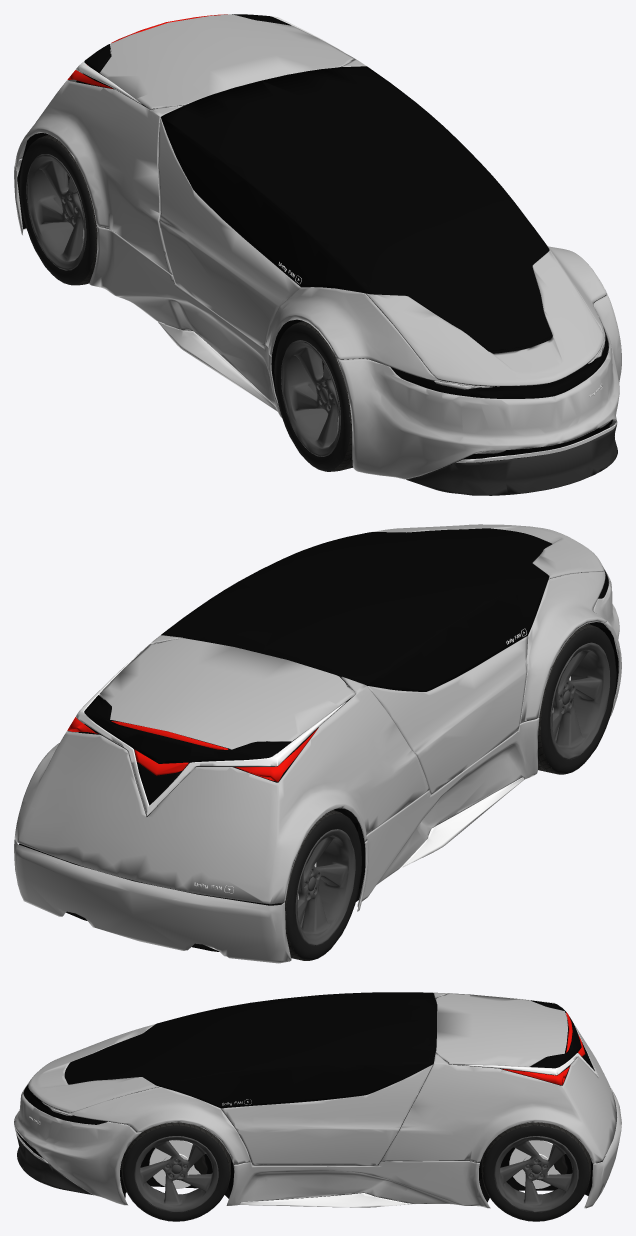
File: c038_lite.glb
3 views of the same model, one above another, from view 1: azimuth 30°, elevation 25°; view 2: azimuth 150°, elevation 25°; view 3: azimuth 270°, elevation 25° (orthographic). The views are drawn at different scales.
Parts seen in each view (by area): view 1: Cube.032_plasticShiny_0, Cube.038_body_color_supra.001_0, Cube.041_body_color_supra.001_0, Cube.042_body_color_supra.001_0, Cube.040_body_color_supra.001_0, Cube.035_body_color_supra.001_0, Cube.033_body_color_supra.001_0, Cube.044_body_color_supra.001_0, Cube.034_plasticMatte_0, Plane.008_rims.001_0, Plane.009_rims.001_0, Cube.031_headlightCovers_0 (+6 smaller); view 2: Cube.032_plasticShiny_0, Cube.042_body_color_supra.001_0, Cube.041_body_color_supra.001_0, Cube.043_body_color_supra.001_0, Cube.040_body_color_supra.001_0, Cube.044_body_color_supra.001_0, Cube.033_body_color_supra.001_0, Plane.009_rims.001_0, Plane.008_rims.001_0, Cube.020_chrome_0, Mesh5.002_rubber___tires.001_0, Mesh5.003_rubber___tires.001_0 (+6 smaller); view 3: Cube.032_plasticShiny_0, Cube.042_body_color_supra.001_0, Cube.040_body_color_supra.001_0, Cube.044_body_color_supra.001_0, Cube.041_body_color_supra.001_0, Cube.038_body_color_supra.001_0, Cube.033_body_color_supra.001_0, Cube.035_body_color_supra.001_0, Plane.001_rims.001_0, Plane.007_rims.001_0, Mesh5.001_rubber___tires.001_0, Mesh5.004_rubber___tires.001_0 (+12 smaller).
Boxes of the visible parts, left/top/right/bottom form: Cube.032_plasticShiny_0: left=84, top=14, right=552, bottom=351; Cube.038_body_color_supra.001_0: left=336, top=294, right=621, bottom=479; Cube.041_body_color_supra.001_0: left=100, top=14, right=355, bottom=109; Cube.042_body_color_supra.001_0: left=14, top=52, right=366, bottom=274; Cube.040_body_color_supra.001_0: left=158, top=117, right=300, bottom=347; Cube.035_body_color_supra.001_0: left=366, top=249, right=604, bottom=386; Cube.033_body_color_supra.001_0: left=265, top=246, right=606, bottom=387; Cube.044_body_color_supra.001_0: left=89, top=225, right=281, bottom=417; Cube.034_plasticMatte_0: left=406, top=425, right=617, bottom=495; Plane.008_rims.001_0: left=26, top=154, right=94, bottom=270; Plane.009_rims.001_0: left=281, top=340, right=350, bottom=456; Cube.031_headlightCovers_0: left=392, top=324, right=616, bottom=458; Cube.032_plasticShiny_0: left=84, top=528, right=551, bottom=763; Cube.042_body_color_supra.001_0: left=14, top=635, right=429, bottom=904; Cube.041_body_color_supra.001_0: left=99, top=638, right=355, bottom=749; Cube.043_body_color_supra.001_0: left=14, top=838, right=291, bottom=963; Cube.040_body_color_supra.001_0: left=367, top=636, right=528, bottom=794; Cube.044_body_color_supra.001_0: left=357, top=717, right=539, bottom=911; Cube.033_body_color_supra.001_0: left=519, top=565, right=606, bottom=723; Plane.009_rims.001_0: left=540, top=642, right=610, bottom=759; Plane.008_rims.001_0: left=286, top=829, right=355, bottom=945; Cube.020_chrome_0: left=76, top=651, right=524, bottom=868; Mesh5.002_rubber___tires.001_0: left=286, top=814, right=361, bottom=960; Mesh5.003_rubber___tires.001_0: left=541, top=627, right=616, bottom=773; Cube.032_plasticShiny_0: left=65, top=992, right=581, bottom=1107; Cube.042_body_color_supra.001_0: left=381, top=992, right=616, bottom=1163; Cube.040_body_color_supra.001_0: left=221, top=1064, right=432, bottom=1165; Cube.044_body_color_supra.001_0: left=226, top=1161, right=490, bottom=1208; Cube.041_body_color_supra.001_0: left=435, top=993, right=567, bottom=1066; Cube.038_body_color_supra.001_0: left=14, top=1085, right=141, bottom=1205; Cube.033_body_color_supra.001_0: left=41, top=1087, right=251, bottom=1164; Cube.035_body_color_supra.001_0: left=28, top=1024, right=159, bottom=1112; Plane.001_rims.001_0: left=134, top=1136, right=218, bottom=1212; Plane.007_rims.001_0: left=494, top=1125, right=578, bottom=1212; Mesh5.001_rubber___tires.001_0: left=483, top=1125, right=589, bottom=1221; Mesh5.004_rubber___tires.001_0: left=123, top=1125, right=229, bottom=1221.
Bounding box in the file's own units: 1.63 × 1.27 × 4.48.
Materials: 13 (1 with a texture image).
